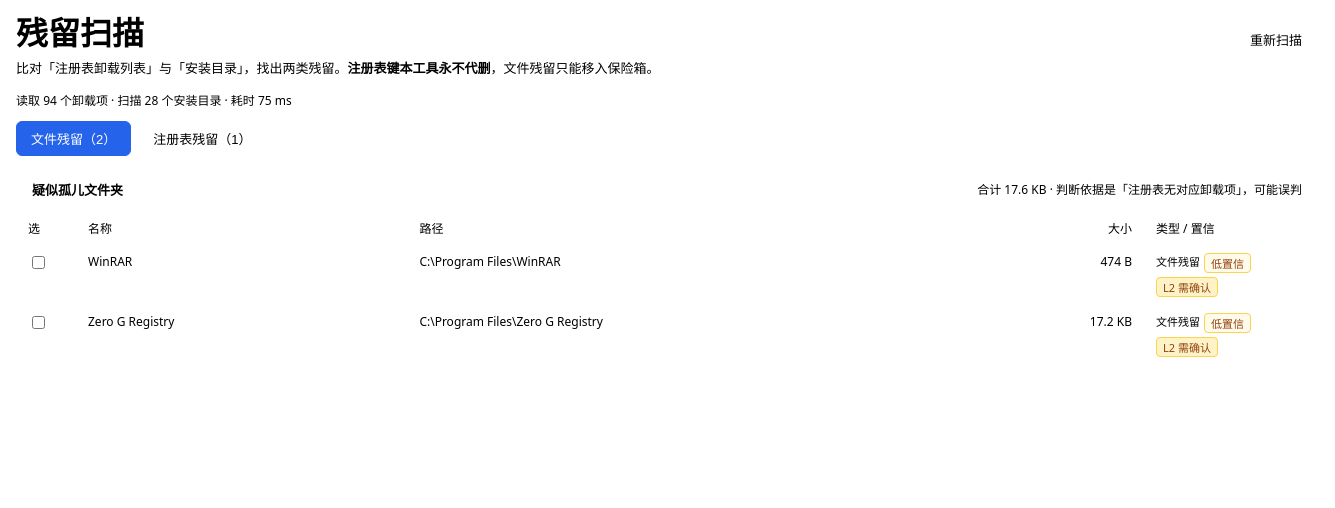
残留扫描 › 部分失败时同时展示成功数与逐条原因
expect the text "WinRAR" is shown: met, box left=76, top=245, right=407, bottom=305
Click the checkbox named "选择 WinRAR". click: (38, 262)
box: left=32, top=256, right=45, bottom=269
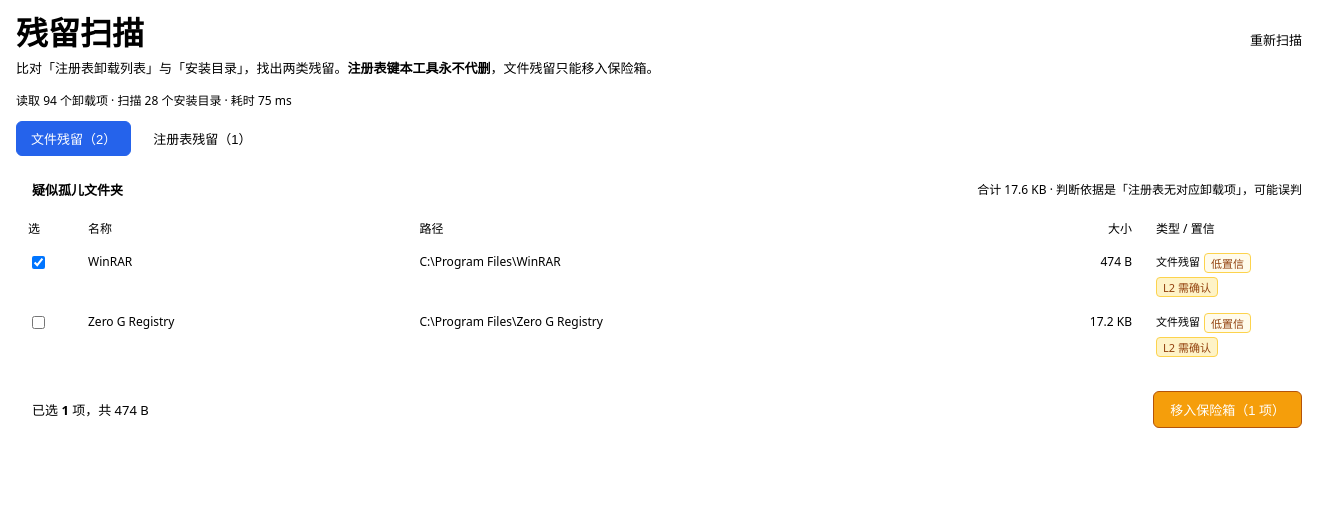
Click the checkbox named "选择 Zero G Registry". click: (38, 322)
box: left=32, top=316, right=45, bottom=329
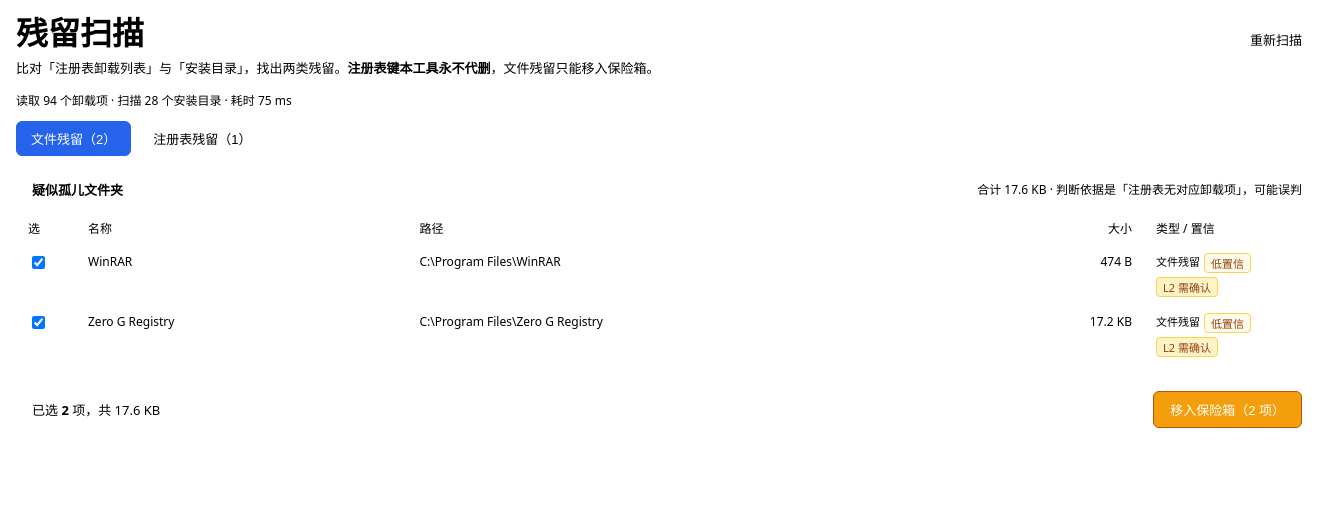
Click the button "移入保险箱（2 项）". click: (1228, 410)
box: left=1153, top=391, right=1302, bottom=428
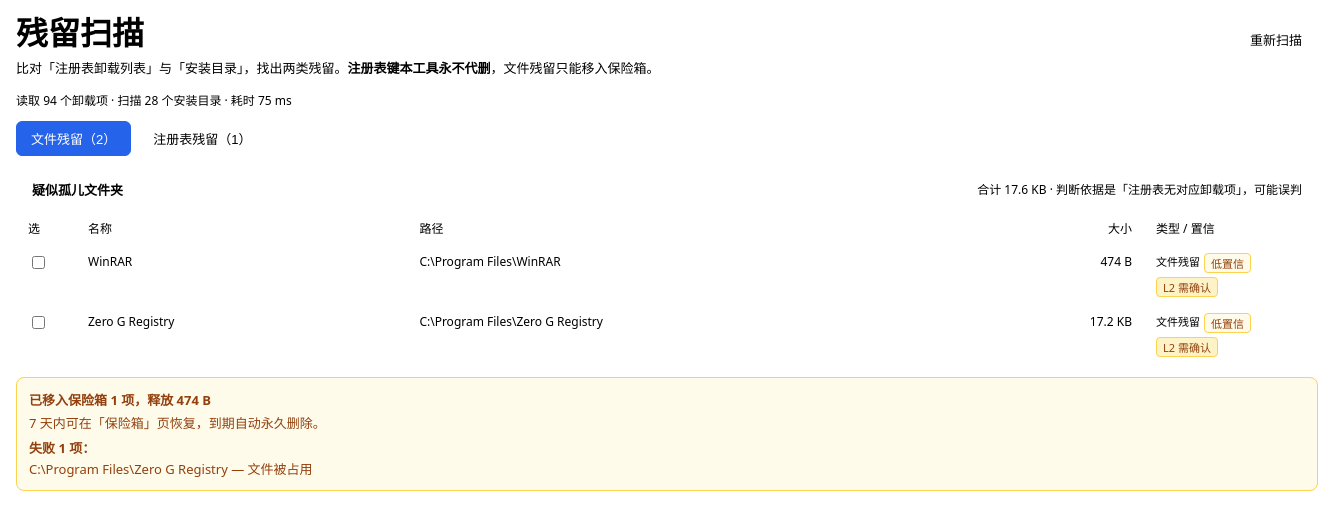
expect the text "已移入保险箱 1 项，释放 474 B" is shown: met, box left=29, top=391, right=211, bottom=409
expect the text "失败 1 项：" is shown: met, box left=29, top=439, right=95, bottom=457
expect the text "C:\\Program Files\\Zero G Registry — 文件被占用" is shown: met, box left=29, top=460, right=313, bottom=478
